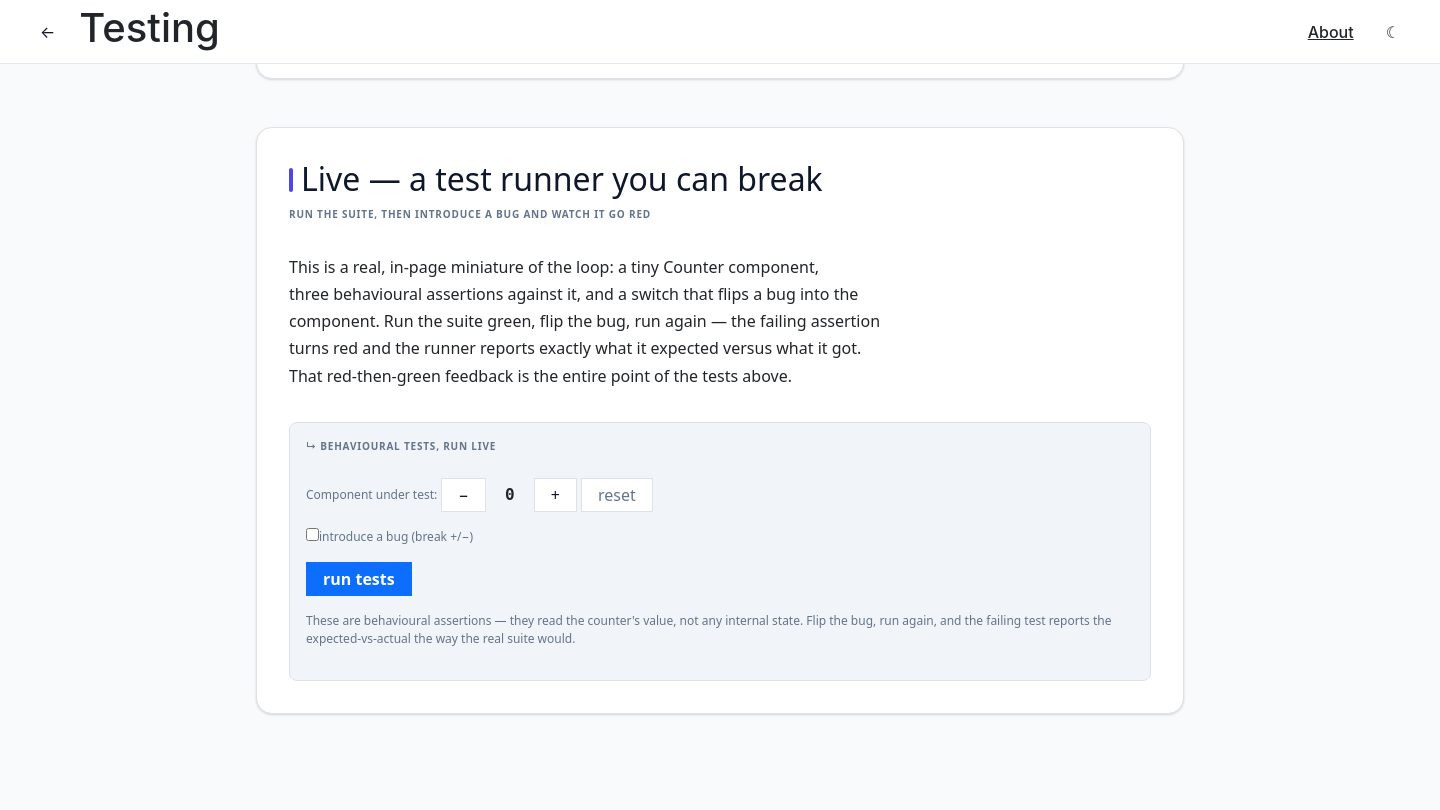
Testing screen › runs the demo suite green, then red when the bug is flipped
(page scrolled)
What coordinates should you click on to do the following:
click the button "run tests"
I would click on:
 (359, 579)
Its box is [306, 562, 412, 596].
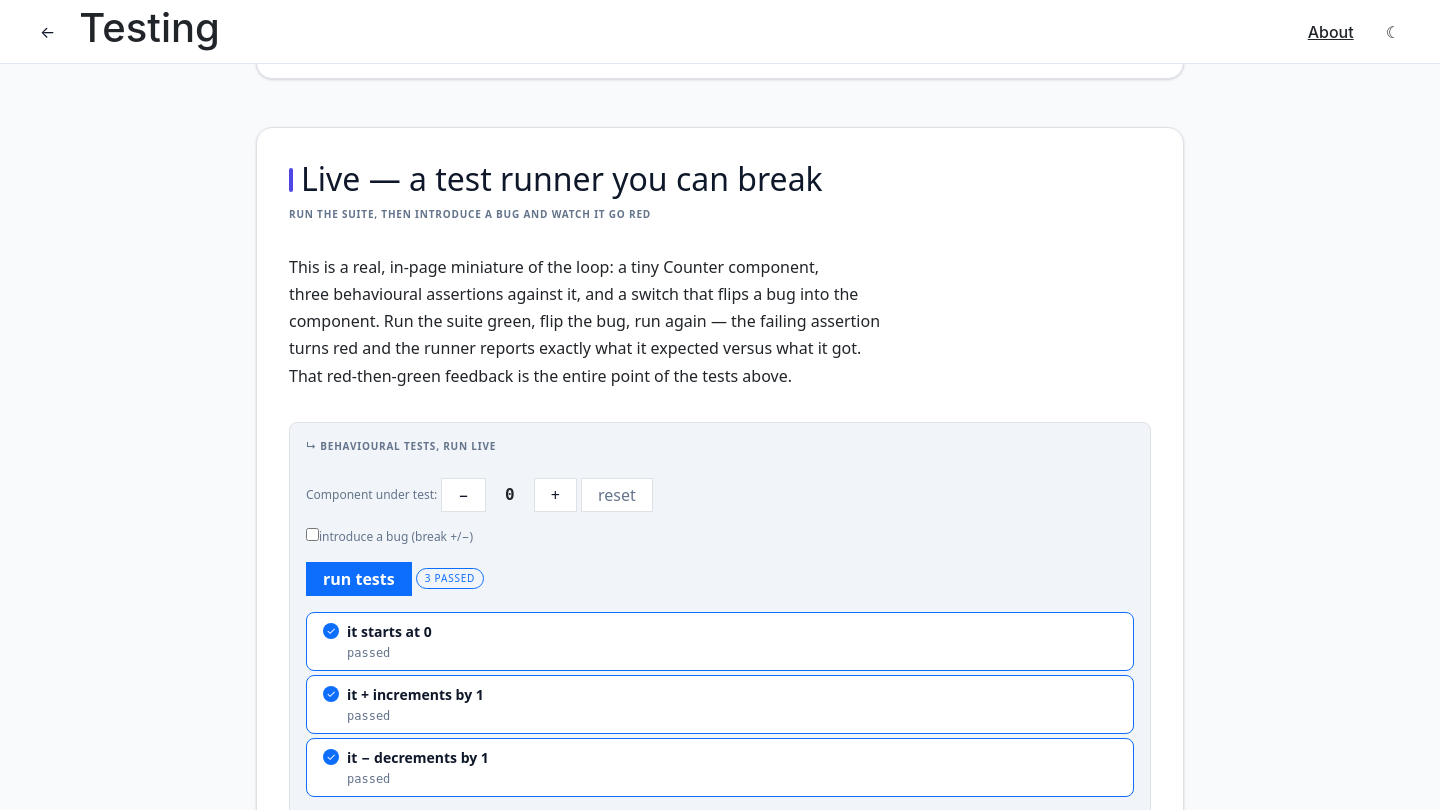
Expected: the text "3 passed" is shown, [416, 568, 484, 589]
What coordinates should you click on to do the following:
click the checkbox labelled "introduce a bug (break +/−)"
I would click on:
 (312, 534)
Its box is [306, 528, 319, 541].
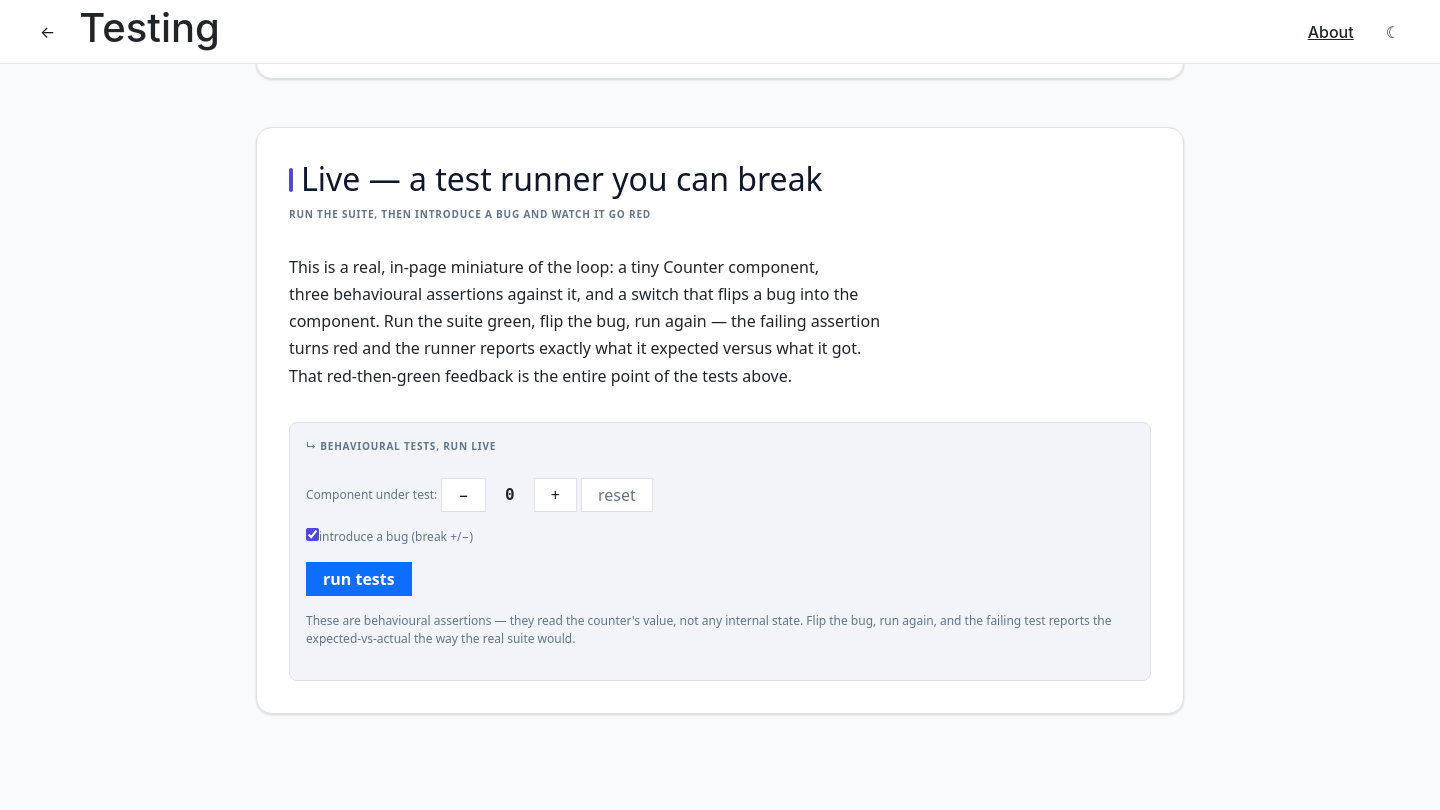
What coordinates should you click on to do the following:
click the button "run tests"
I would click on:
 (359, 579)
Its box is [306, 562, 412, 596].
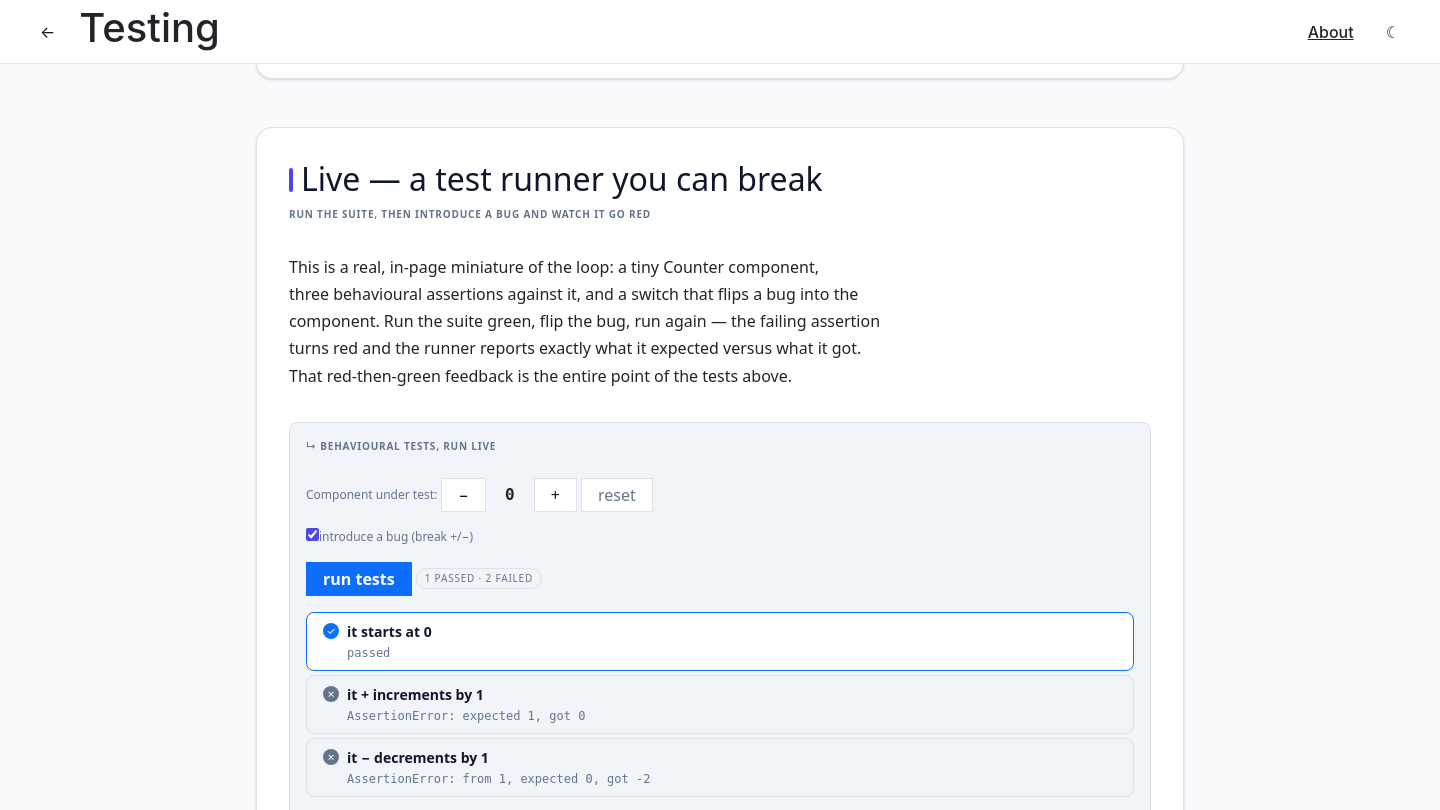
Expected: the text "1 passed · 2 failed" is shown, [416, 568, 542, 589]
Expected: the text "AssertionError: expected 1, got 0" is shown, [347, 707, 585, 725]
